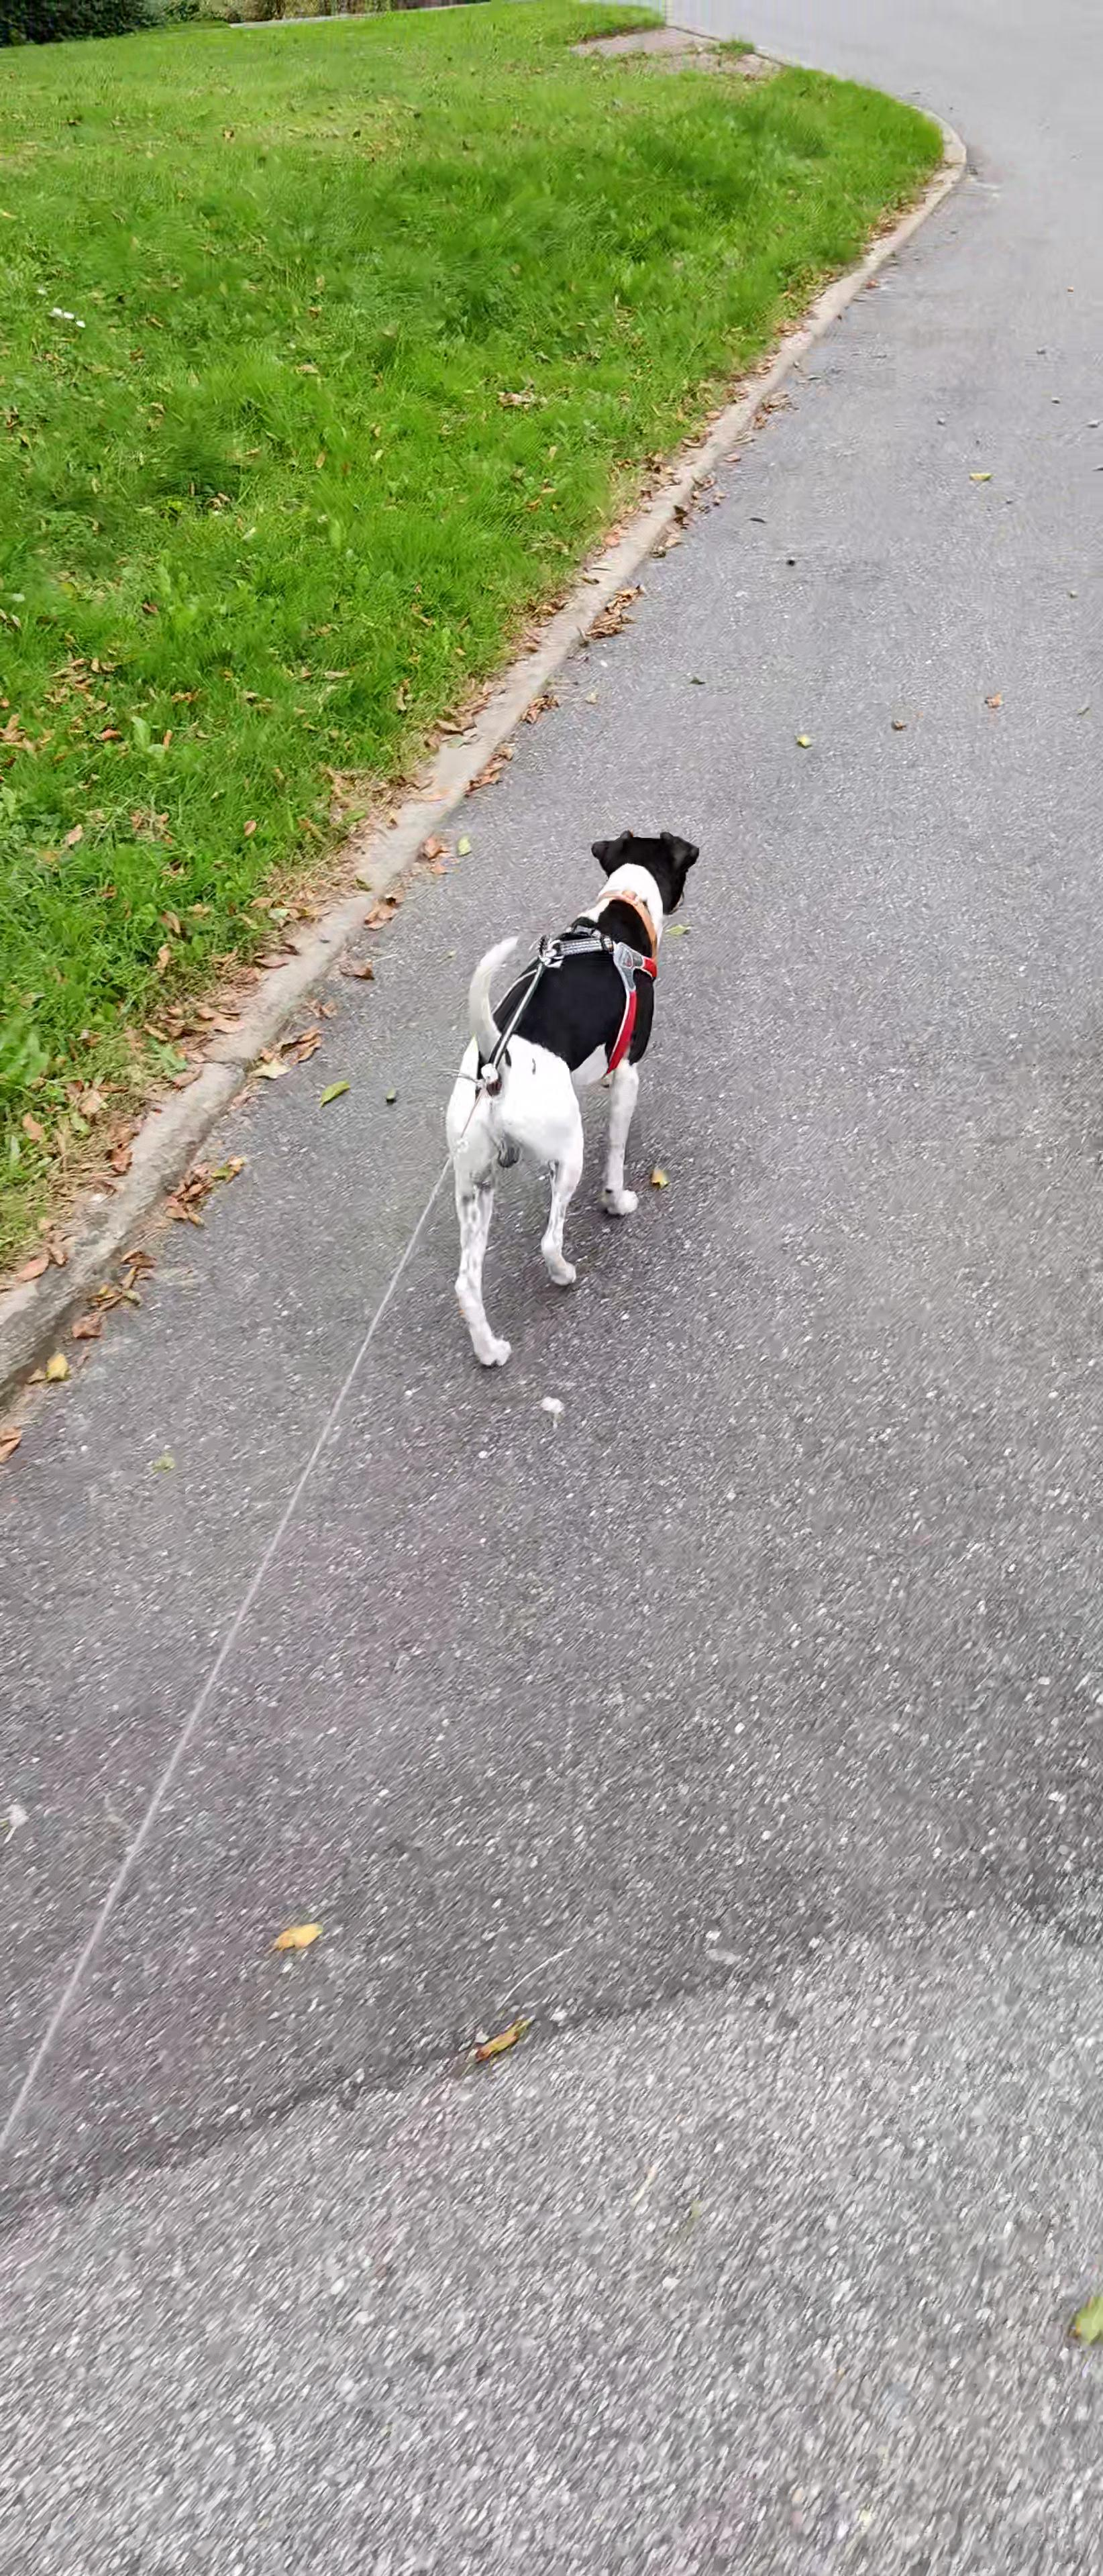Dog: (434, 823, 717, 1378)
